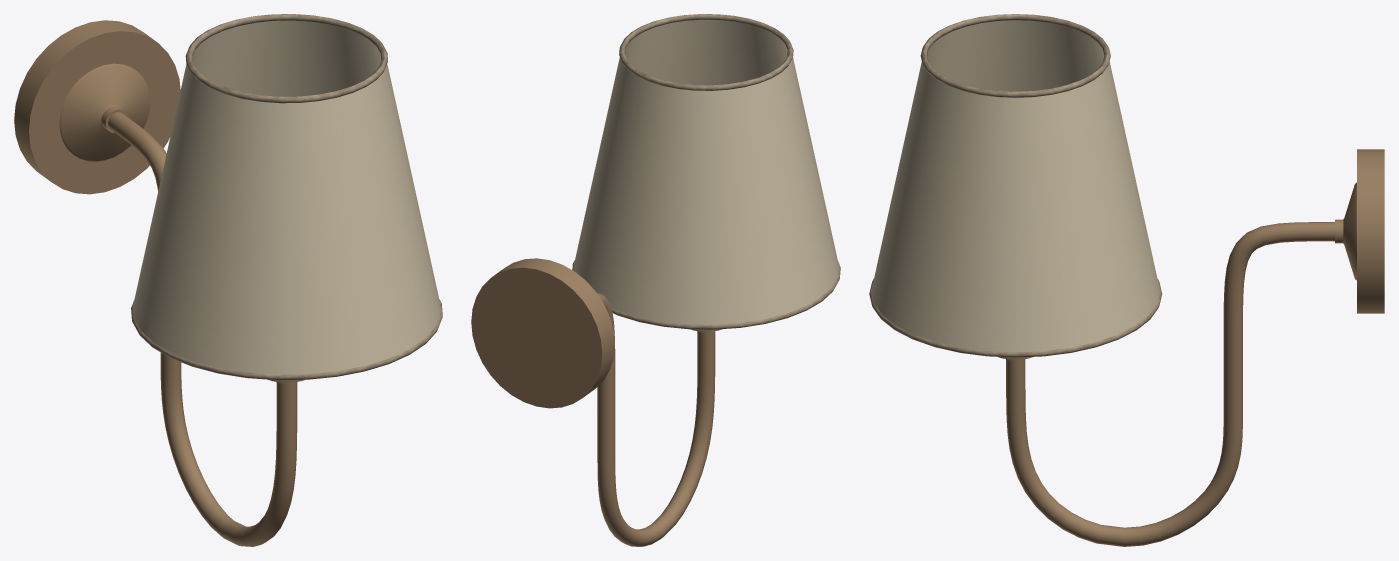
Rendered from Lamp_Wall.fbx.
3 renders of one model, left to right at view 1: azimuth 30°, elevation 25°; view 2: azimuth 150°, elevation 25°; view 3: azimuth 270°, elevation 25°, orthographic. The views are drawn at different scales.
Visible parts, largest first — view 1: Wall Lamp; view 2: Wall Lamp; view 3: Wall Lamp.
Part boxes in pixels (<box>): Wall Lamp: <box>14,14,442,546</box>; Wall Lamp: <box>471,14,840,546</box>; Wall Lamp: <box>869,14,1384,546</box>.
Size of the model in its own units: 159 by 295 by 279.
